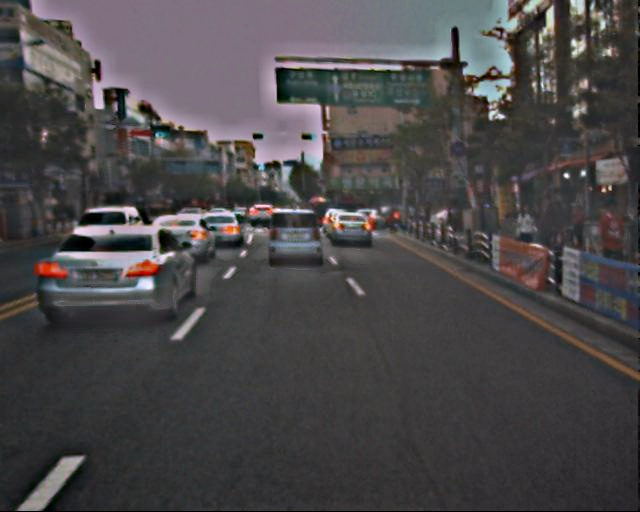person: (588, 200, 627, 296), (535, 195, 567, 274), (511, 202, 541, 274), (563, 198, 588, 260)
